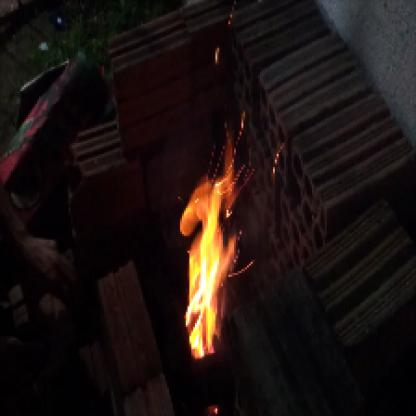Fire: (167, 126, 256, 364)
